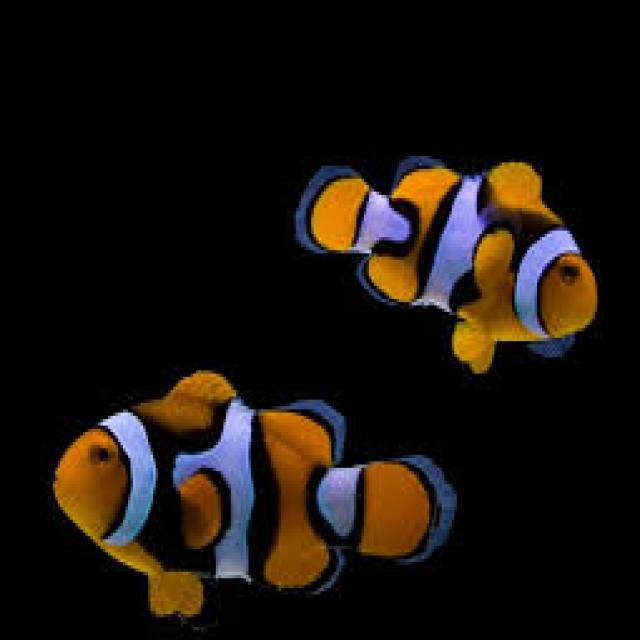ClownFish: (51, 368, 454, 626), (295, 130, 602, 369)
